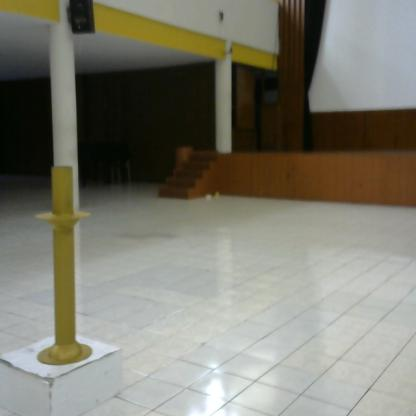pole: (30, 163, 100, 376)
